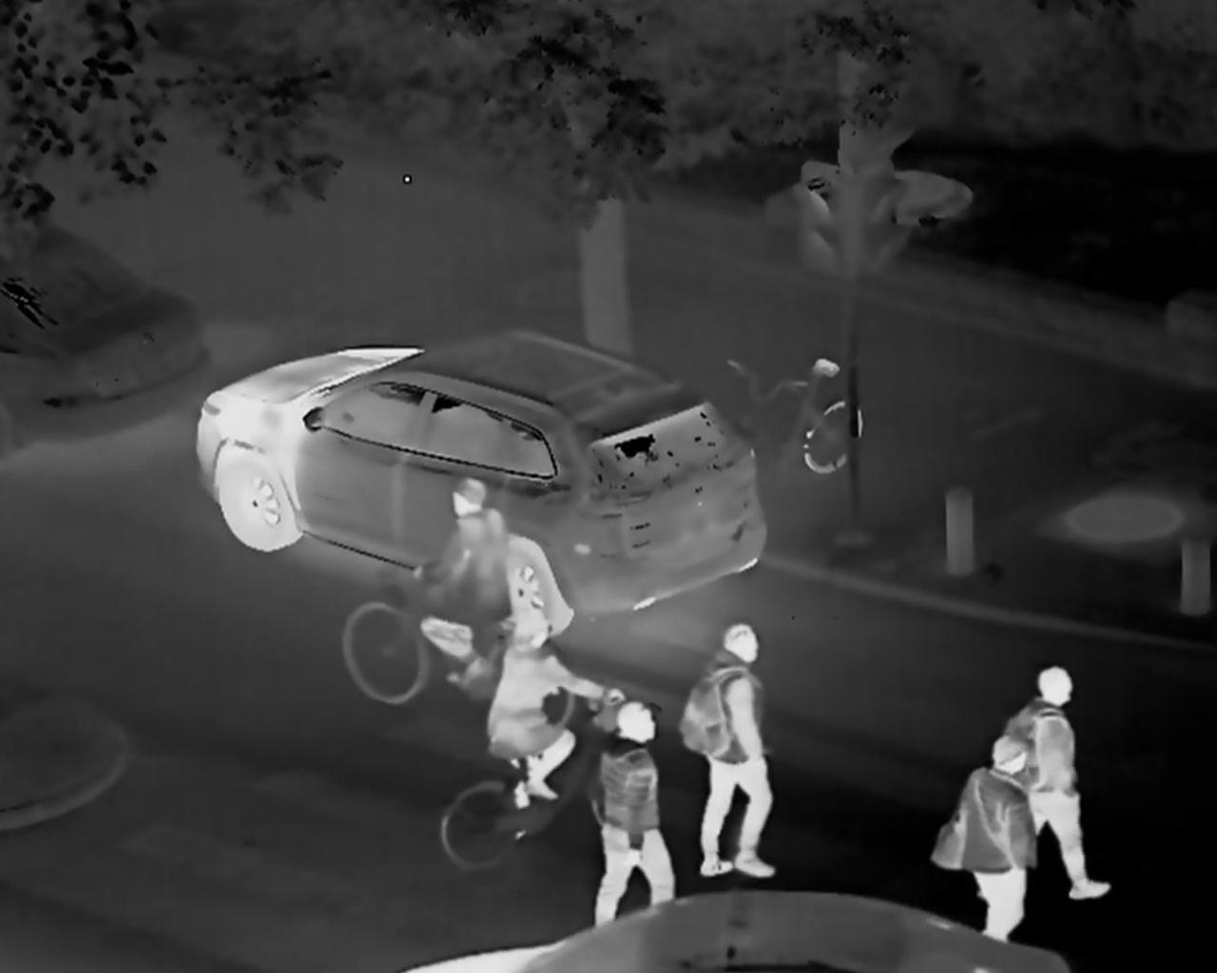person: (678, 620, 778, 884), (1002, 665, 1111, 900), (486, 613, 619, 797), (410, 473, 517, 692), (590, 702, 682, 933), (948, 735, 1027, 947)
